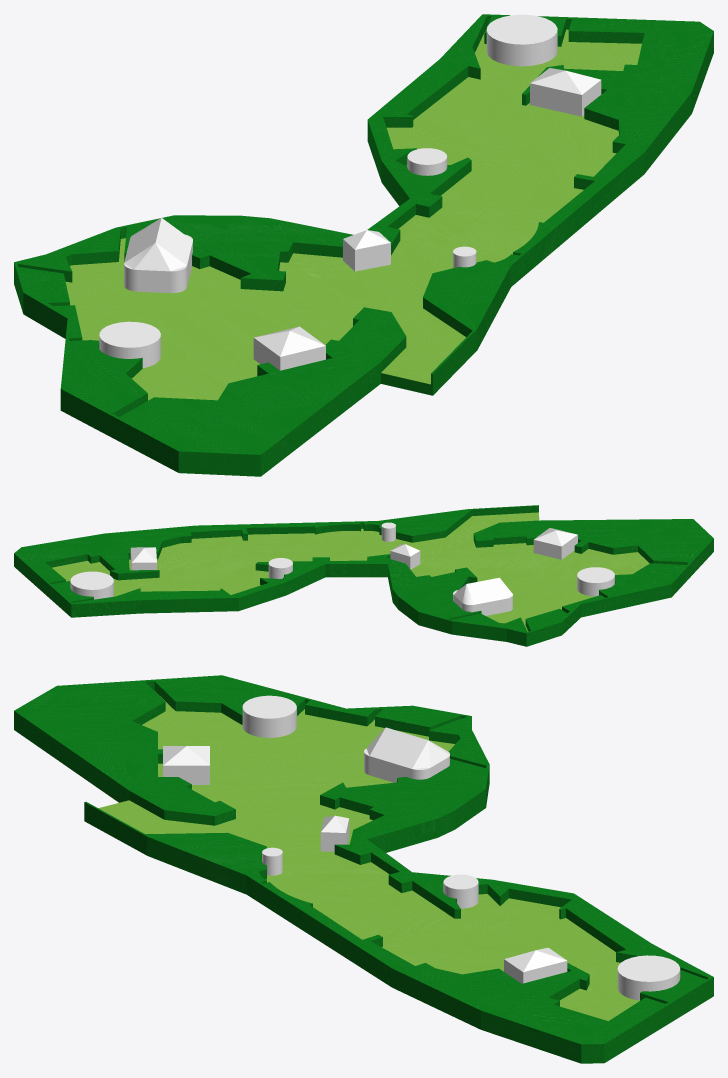
The model's file is FieldDay 2012 3D.dae.
3 renders of one model, top to bottom at view 1: azimuth 30°, elevation 25°; view 2: azimuth 150°, elevation 25°; view 3: azimuth 270°, elevation 25°, orthographic. The views are drawn at different scales.
Visible parts, largest first — view 1: group_0 (×2), SketchUp (×7); view 2: group_0 (×2), SketchUp (×8); view 3: group_0 (×2), SketchUp (×7).
Boxes of the visible parts, x1=… form: group_0 (×2): x1=14, y1=14, x2=713, y2=476; SketchUp (×7): x1=99, y1=14, x2=601, y2=370; group_0 (×2): x1=14, y1=505, x2=713, y2=646; SketchUp (×8): x1=70, y1=522, x2=614, y2=615; group_0 (×2): x1=14, y1=675, x2=713, y2=1063; SketchUp (×7): x1=163, y1=695, x2=680, y2=1000.
Bounding box in the file's own units: 32.44 × 25.99 × 1.97.
4 materials, 3 textured.
